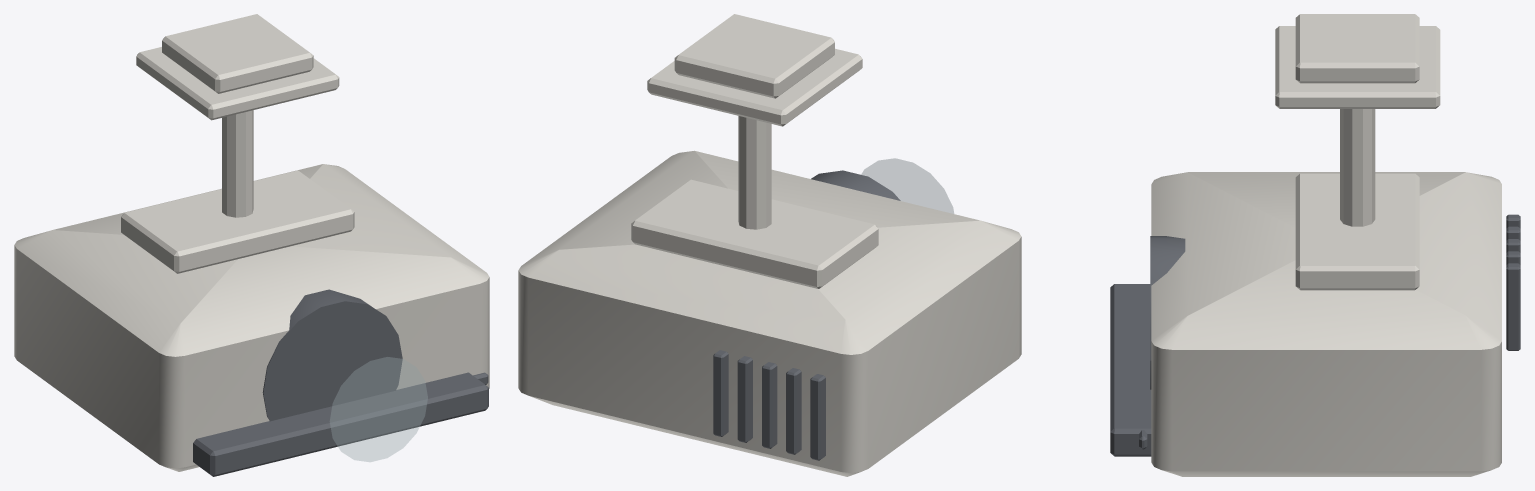
File: classroom_projector_web.glb
The picture shows the model from 3 angles, left to right: view 1: azimuth 30°, elevation 25°; view 2: azimuth 150°, elevation 25°; view 3: azimuth 270°, elevation 25°; orthographic projection. The views are drawn at different scales.
Visible parts, largest first — view 1: ClassroomProjectorPart1, ClassroomProjectorPart5, ClassroomProjectorPart2, ClassroomProjectorPart3; view 2: ClassroomProjectorPart1, ClassroomProjectorPart5, ClassroomProjectorPart2, ClassroomProjectorPart3; view 3: ClassroomProjectorPart1, ClassroomProjectorPart5, ClassroomProjectorPart2.
Boxes of the visible parts, <box> form: ClassroomProjectorPart1: <box>14,164,489,471</box>; ClassroomProjectorPart5: <box>121,14,354,273</box>; ClassroomProjectorPart2: <box>193,289,488,476</box>; ClassroomProjectorPart3: <box>330,357,427,461</box>; ClassroomProjectorPart1: <box>518,150,1021,476</box>; ClassroomProjectorPart5: <box>631,14,878,288</box>; ClassroomProjectorPart2: <box>713,170,900,460</box>; ClassroomProjectorPart3: <box>861,158,953,213</box>; ClassroomProjectorPart1: <box>1151,172,1501,476</box>; ClassroomProjectorPart5: <box>1275,14,1440,290</box>; ClassroomProjectorPart2: <box>1110,214,1520,456</box>.
Size of the model in its own units: 0.8 by 0.78 by 0.912.
